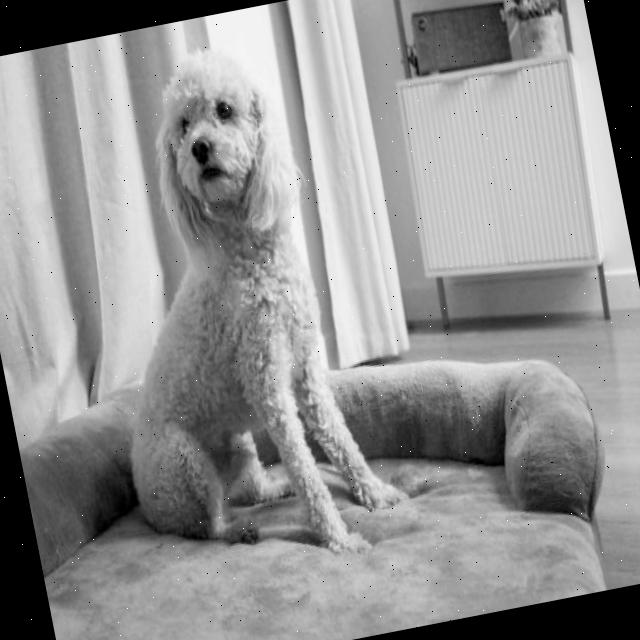Poodle_dog: (130, 31, 324, 296)
